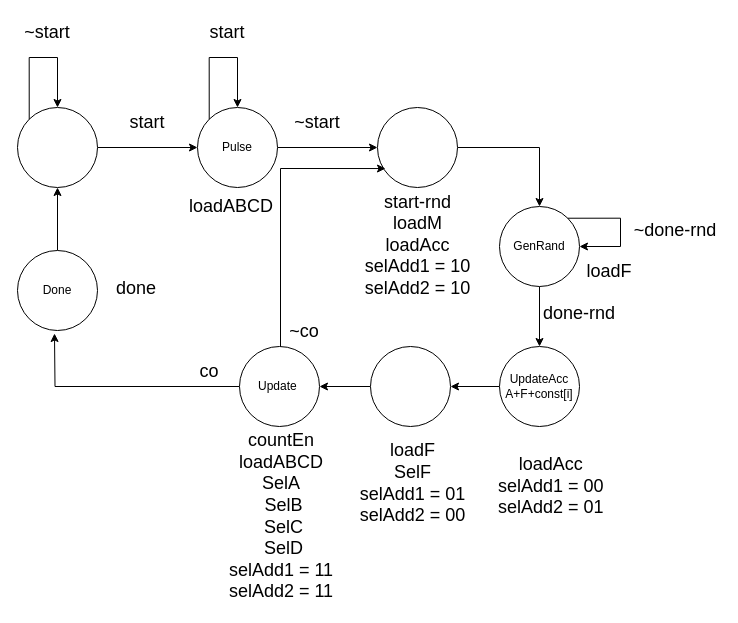
The diagram is 738 pixels wide and 623 high, and some of its shapes have lost their labels. Here are the shapes that lost their labels. From the top down, the box of each, then its label:
(16, 106, 98, 188): Idle
(376, 106, 458, 188): Init
(370, 346, 450, 426): CalculateF
